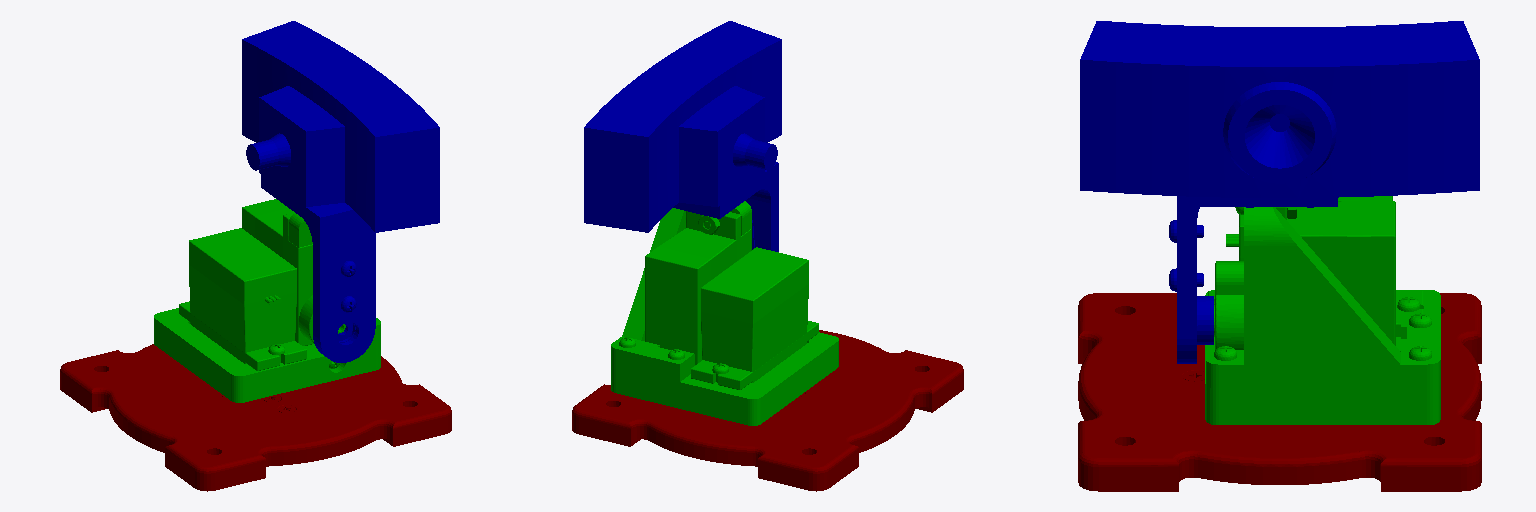
The robot description file, URDF, robot "pan_tilt_camera":
<?xml version="1.0"?>


<robot name="pan_tilt_camera">

  <link name="base_link">
    <visual>
      <geometry>
        <mesh filename="package://ptcam_description/meshes/BaseUnit.stl"/>
      </geometry>
      <material name="red">
        <color rgba="0.5 0 0 1"/>
      </material>
    </visual>
  </link>

  <link name="pantbl_link">
    <visual>
      <geometry>
        <mesh filename="package://ptcam_description/meshes/PanUnit3.stl"/>
      </geometry>
      <material name="green">
        <color rgba="0 0.7 0 1"/>
      </material>
    </visual>
  </link>

  <link name="cam_link">
    <visual>
      <geometry>
        <mesh filename="package://ptcam_description/meshes/CamUnit3.stl"/>
      </geometry>
      <material name="blue">
        <color rgba="0 0 0.7 1"/>
      </material>
    </visual>
  </link>

  <link name="camera_frame">
  </link>


  <joint name="pan" type="revolute">
    <parent link="base_link"/>
    <child link="pantbl_link"/>
    <origin xyz="0 0 0.0031" rpy="0 0 0"/>
    <axis xyz="0 0 1"/>
    <limit effort="1000.0" lower="-1.5" upper="1.5" velocity="0.5"/>
  </joint>

  <joint name="tilt" type="revolute">
    <parent link="pantbl_link"/>
    <child link="cam_link"/>
    <origin xyz="0.0128 -0.0122 0.017" rpy="0 0 0"/>
    <axis xyz="0 -1 0"/>
    <limit effort="1000.0" lower="-1.5" upper="1.5" velocity="0.5"/>
  </joint>

  <joint name="arm_camera" type="fixed">
    <parent link="cam_link"/>
    <child link="camera_frame"/>
    <origin xyz="0.0126 0.0122 0.03825" rpy="-1.57 0 -1.57"/>
    <axis xyz="0 1 0"/>
    <limit effort="1000.0" lower="-1.5" upper="1.5" velocity="0.5"/>
  </joint>

</robot>

--- Facts derived from the render (not from the file) ---
Views: 3 orthographic renders of the robot side by side, from view 1: azimuth 30°, elevation 25°; view 2: azimuth 150°, elevation 25°; view 3: azimuth 270°, elevation 25°.
Robot: pan_tilt_camera — 4 links, 3 joints (2 revolute, 1 fixed); root link base_link; default pose: every joint at zero.
Links seen in each view (by area): view 1: cam_link, base_link, pantbl_link; view 2: pantbl_link, cam_link, base_link; view 3: cam_link, pantbl_link, base_link.
Boxes of the visible links, x1,y1,x2,y2 form: cam_link: (242,21,439,362); base_link: (60,344,451,491); pantbl_link: (154,199,380,402); pantbl_link: (611,201,838,425); cam_link: (584,21,781,251); base_link: (572,330,963,491); cam_link: (1080,21,1479,363); pantbl_link: (1205,196,1440,424); base_link: (1078,293,1481,491).
Size in the robot's own frame: 0.0602 by 0.06 by 0.0691 metres.
3 mesh visuals loaded from 3 distinct referenced files (3 binary STL).